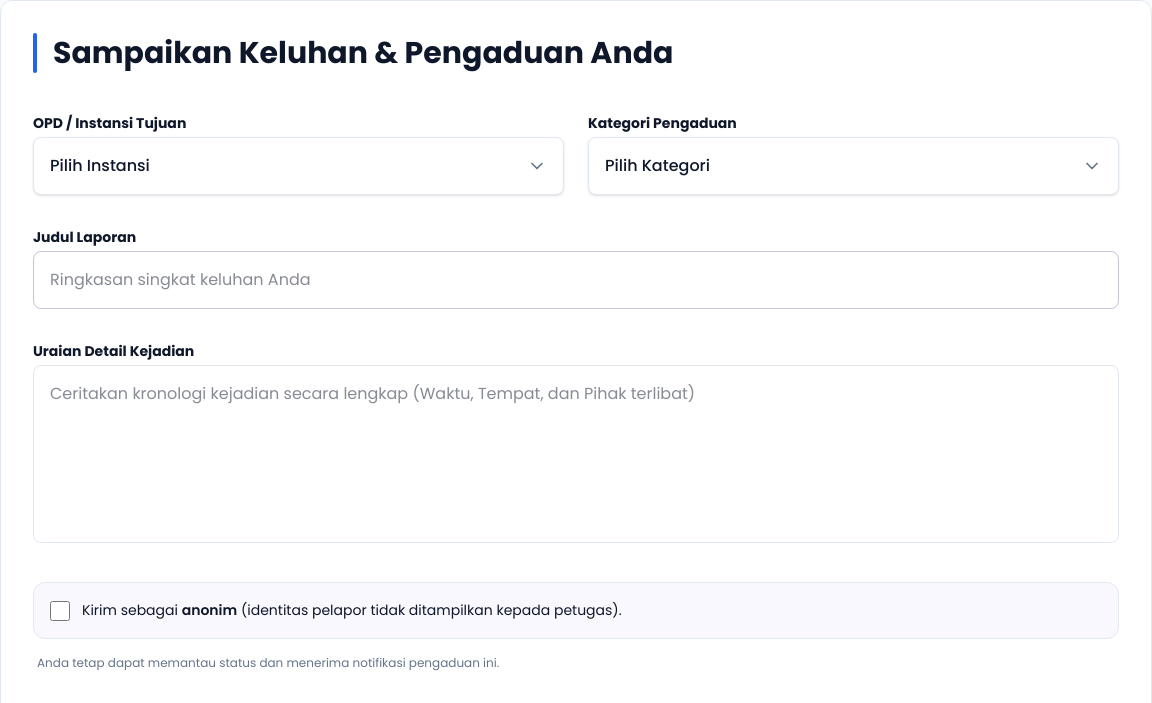
CreateComplaintForm — kategori umum › setelah kategori dipilih, tak ada lagi pilihan sub-kategori
Expected: the text "Pilih Kategori" is shown, [605,154,710,178]
Click the button named "kategori pengaduan" at point(657, 166), box [588,137,1119,195]
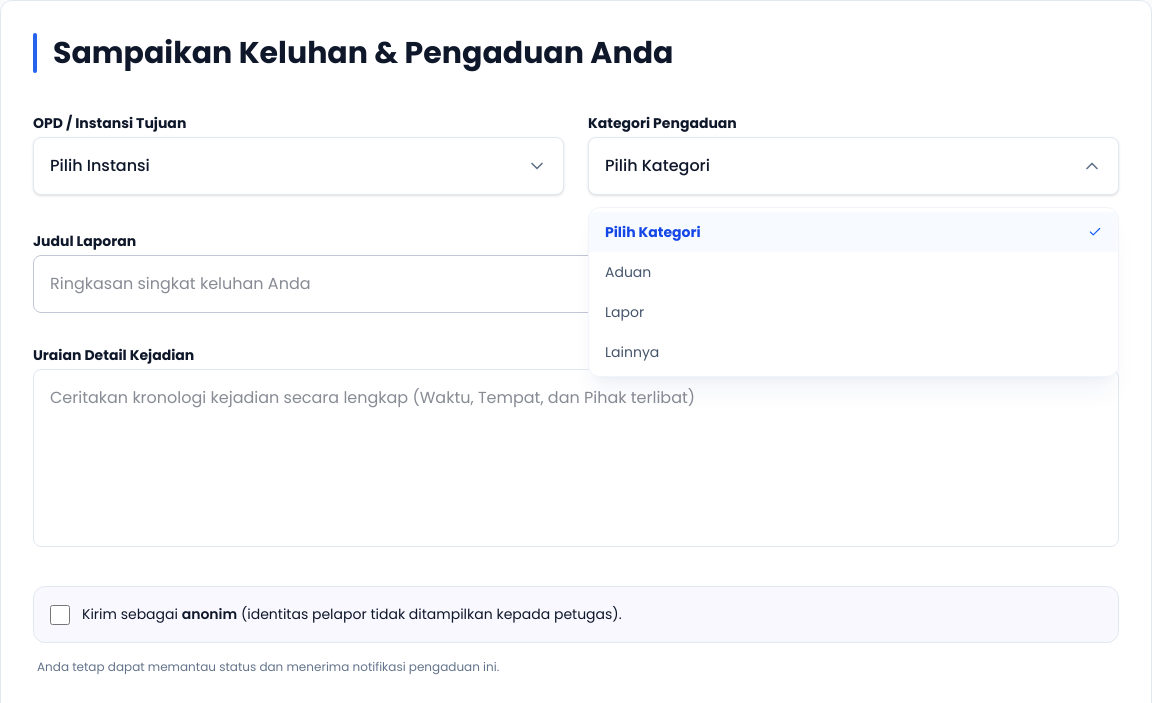
Click the button "Aduan" at point(628, 272), box [589,252,1118,292]
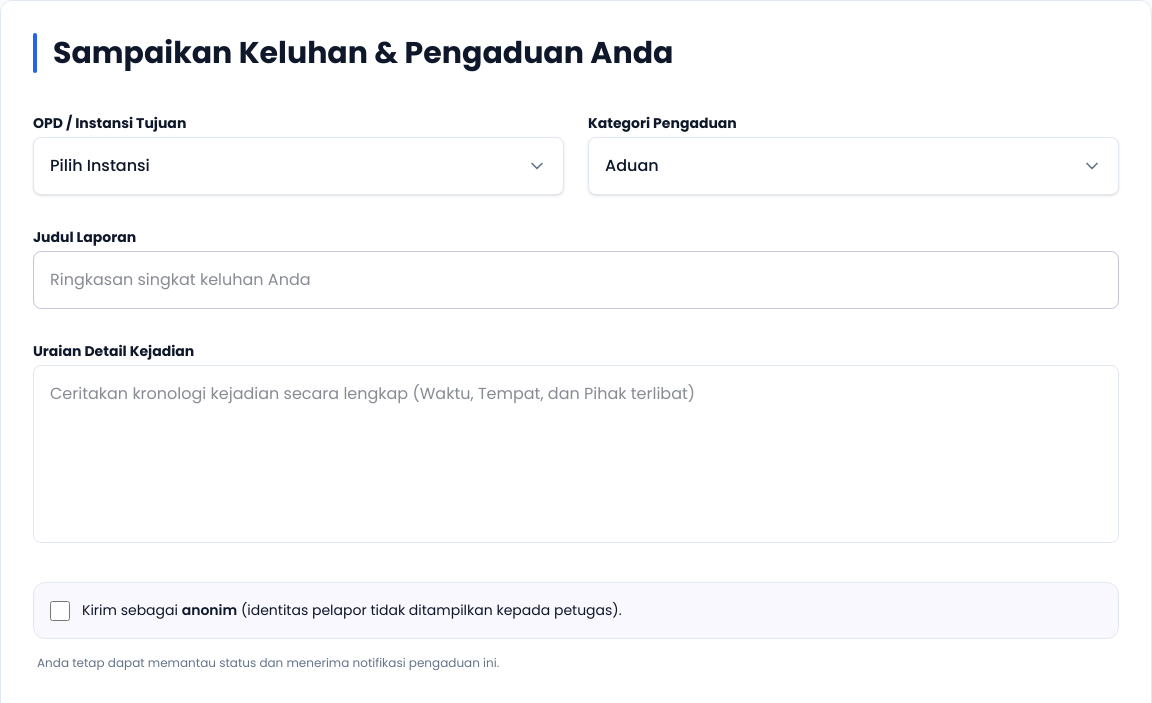
Expected: the button named "kategori pengaduan" reads "Aduan", [588,137,1119,195]
